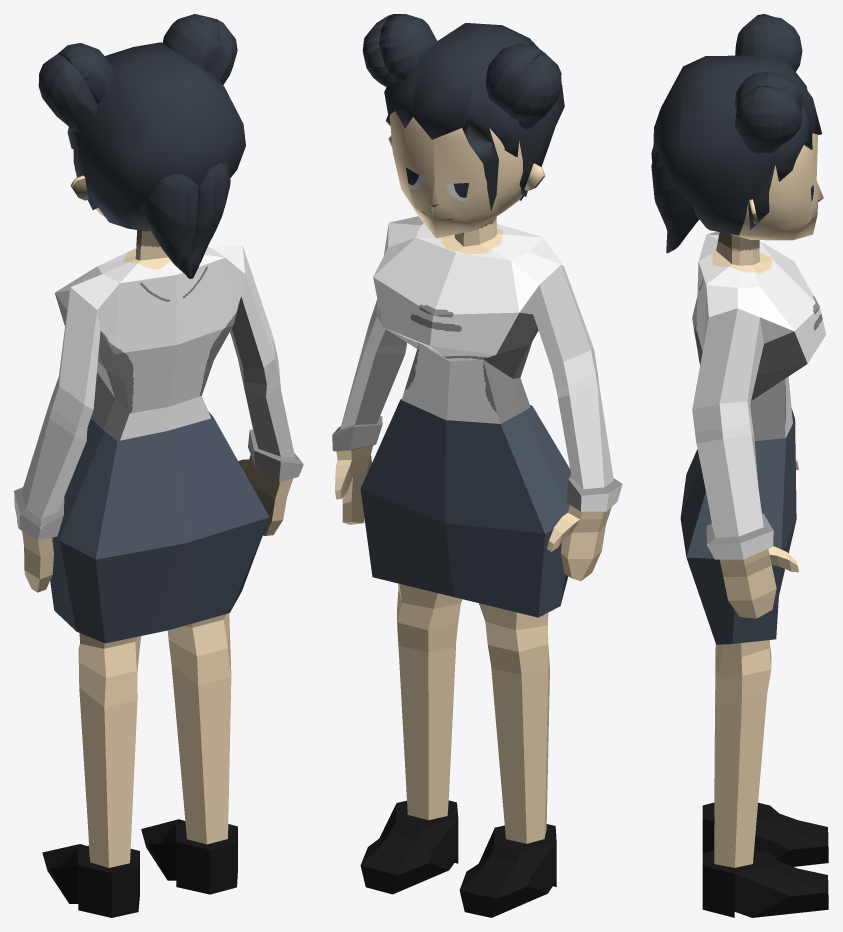
File: F BUNS.glb
3 renders of one model, left to right at view 1: azimuth 30°, elevation 25°; view 2: azimuth 150°, elevation 25°; view 3: azimuth 270°, elevation 25°, orthographic. The views are drawn at different scales.
Visible parts, largest first — view 1: WOMEN OFFICE, BUNS; view 2: WOMEN OFFICE, BUNS, WOMEN HEAD; view 3: WOMEN OFFICE, BUNS, WOMEN HEAD.
Part boxes in pixels (x1,y1,x2,y2): WOMEN OFFICE: (14,230,303,917); BUNS: (38,14,245,278); WOMEN OFFICE: (332,216,622,917); BUNS: (362,14,564,210); WOMEN HEAD: (389,111,522,238); WOMEN OFFICE: (680,231,828,917); BUNS: (651,14,821,253); WOMEN HEAD: (730,133,823,240).
Size of the model in its own units: 3.07 by 9.22 by 1.78.
Materials: 4 (4 with a texture image).
